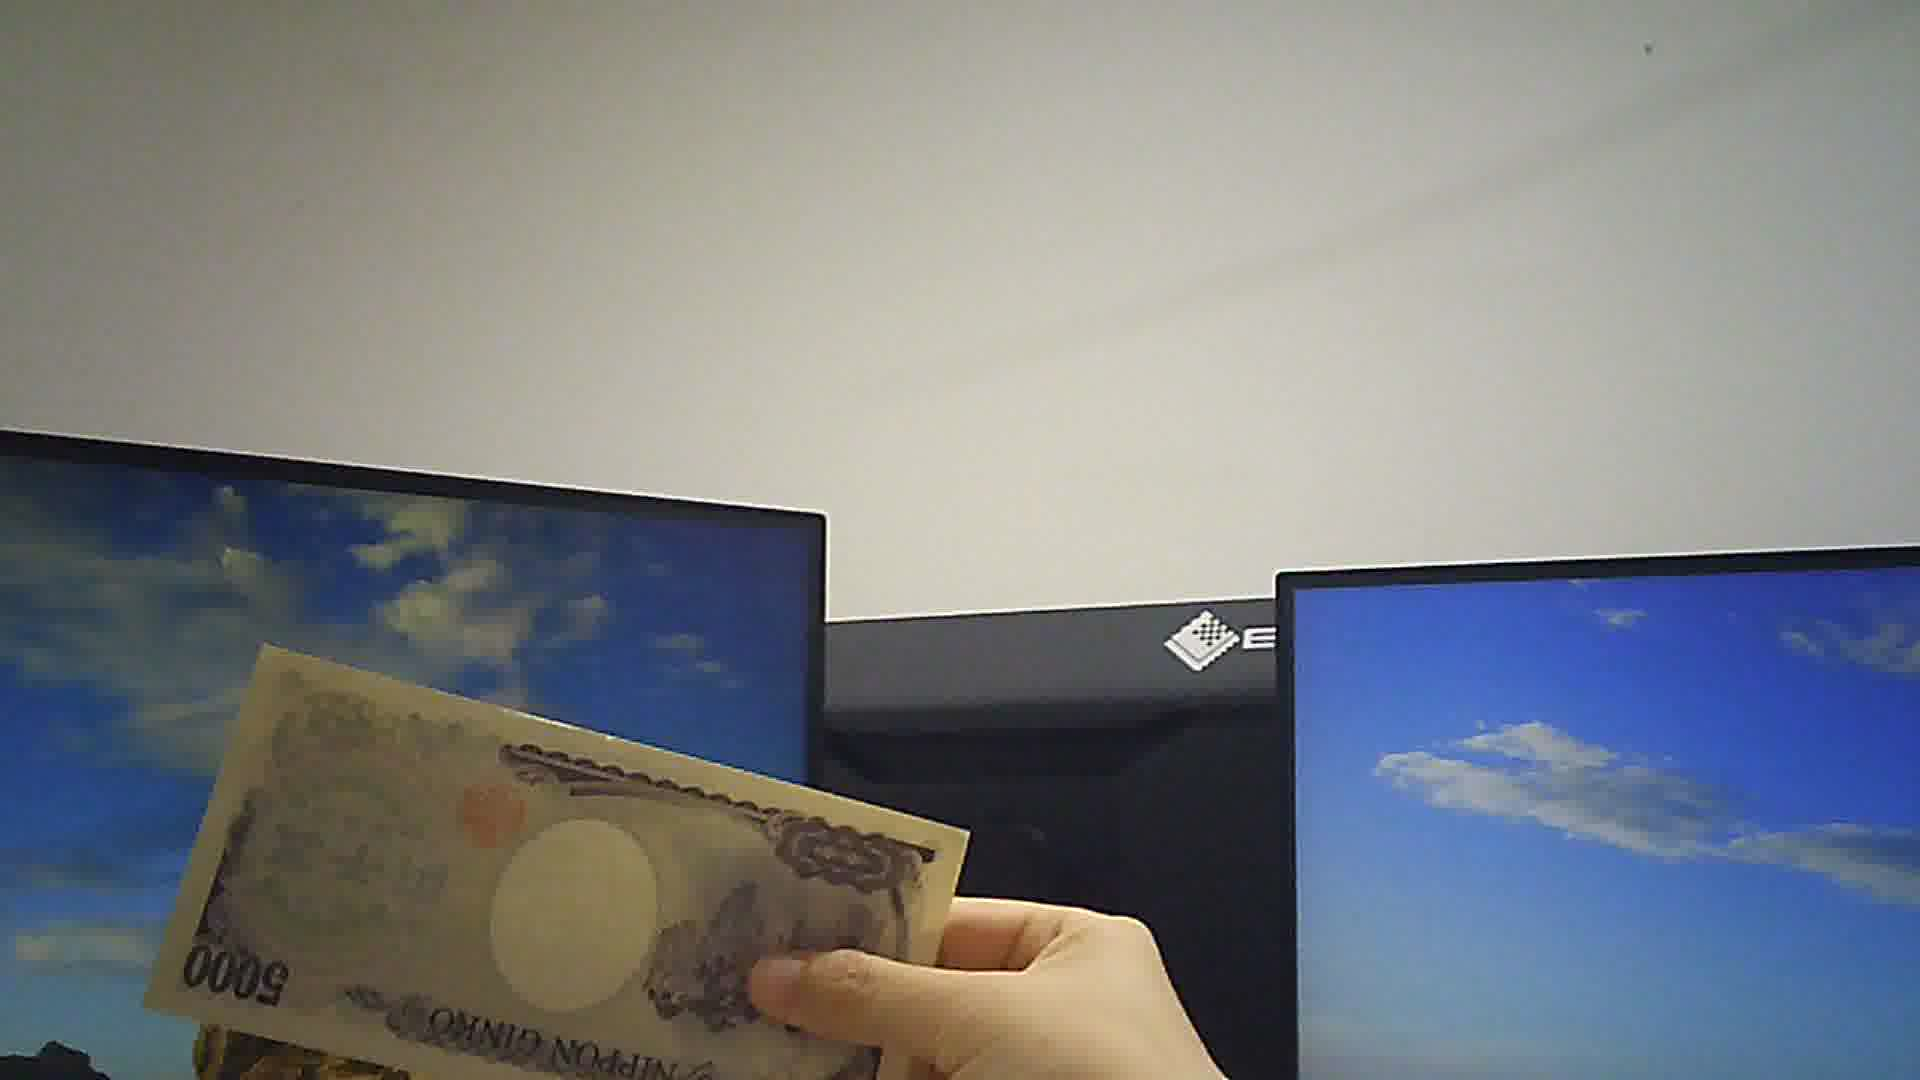5,000 Yen: (142, 644, 922, 1079)
